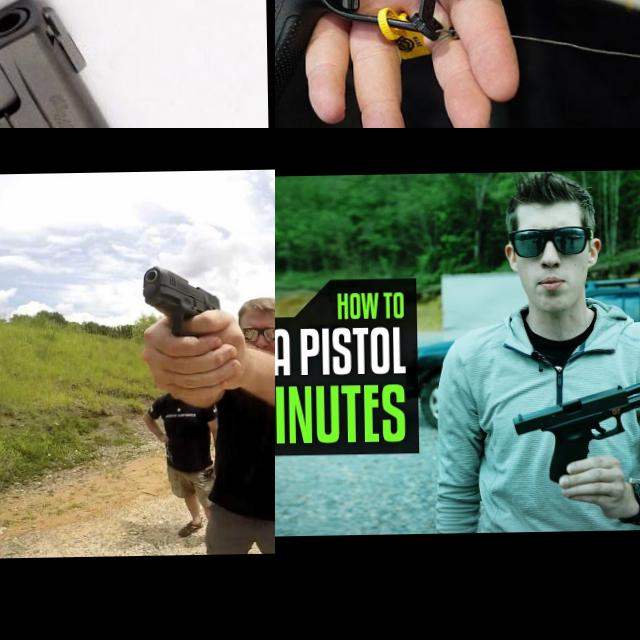handgun: (275, 0, 622, 128), (0, 0, 275, 128), (508, 376, 640, 483), (138, 261, 225, 350)
